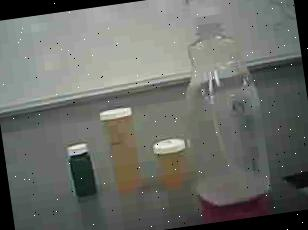Bottle A: (95, 103, 147, 197)
Bottle B: (147, 130, 195, 192)
Bottle C: (62, 140, 102, 204)
hazard: (168, 0, 284, 224)
